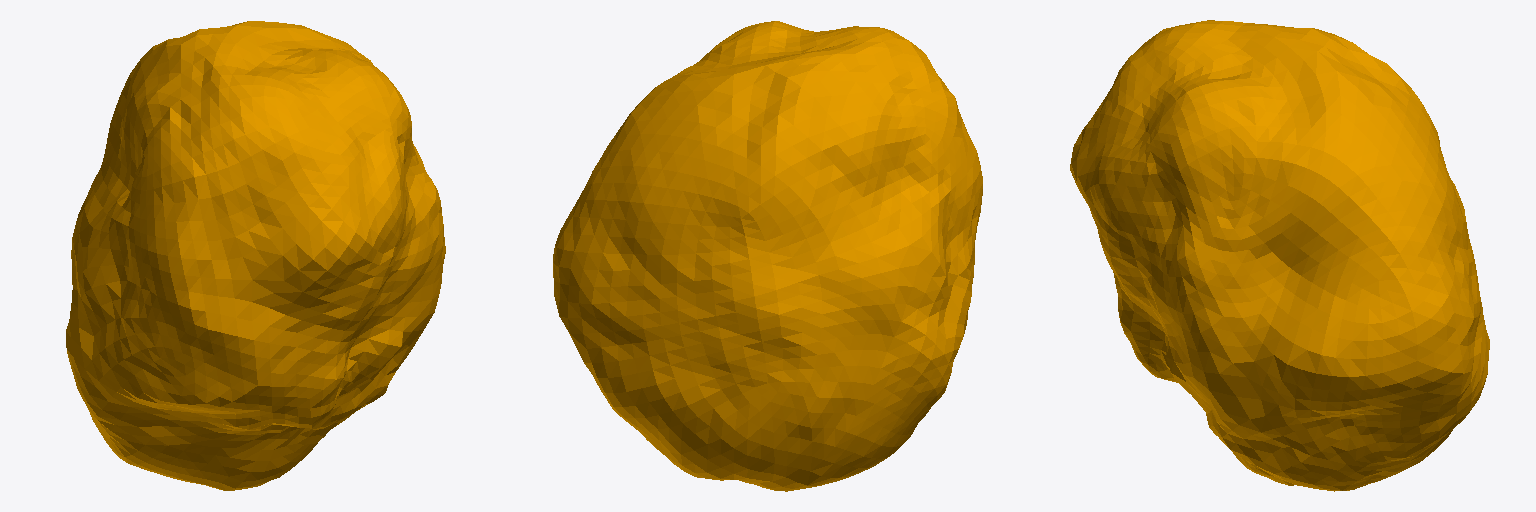
The robot description file, URDF, robot "rock":
<?xml version="1.0" ?>
<robot name="rock">
  <link name="rock">
    <inertial>
      <mass value="0.276"/>
      <origin rpy="0 0 0" xyz="0 0 0"/>
      <inertia ixx="0.000276" ixy="0" ixz="0" iyy="0.000276" iyz="0" izz="0.000276"/>
    </inertial>
    <collision name="rock_collision">
      <origin rpy="0 0 0" xyz="0 0 0"/>
      <geometry>
        <mesh filename="package://rocks/visual/240.dae" scale="1 1 1"/>
      </geometry>
    </collision>
    <visual name="rock_visual">
      <origin rpy="0 0 0" xyz="0 0 0"/>
      <geometry>
        <mesh filename="package://rocks/visual/240.dae" scale="1 1 1"/>
      </geometry>
    </visual>
  </link>
</robot>

--- What the picture shows (computed from the rendered views, not written in the file) ---
3 views of the same robot in one strip: view 1: azimuth 30°, elevation 25°; view 2: azimuth 150°, elevation 25°; view 3: azimuth 270°, elevation 25° (orthographic).
Robot: rock — 1 links, 0 joints (none); root link rock; default pose: every joint at zero.
Links seen in each view (by area): view 1: rock; view 2: rock; view 3: rock.
Boxes of the visible links, bbox=[...] form: rock: bbox=[66, 21, 445, 490]; rock: bbox=[553, 21, 982, 491]; rock: bbox=[1070, 20, 1489, 491].
Size in the robot's own frame: 0.0779 by 0.0782 by 0.0898 metres.
Meshes: 1 distinct files referenced, 1 mesh visuals loaded (1 Collada DAE).